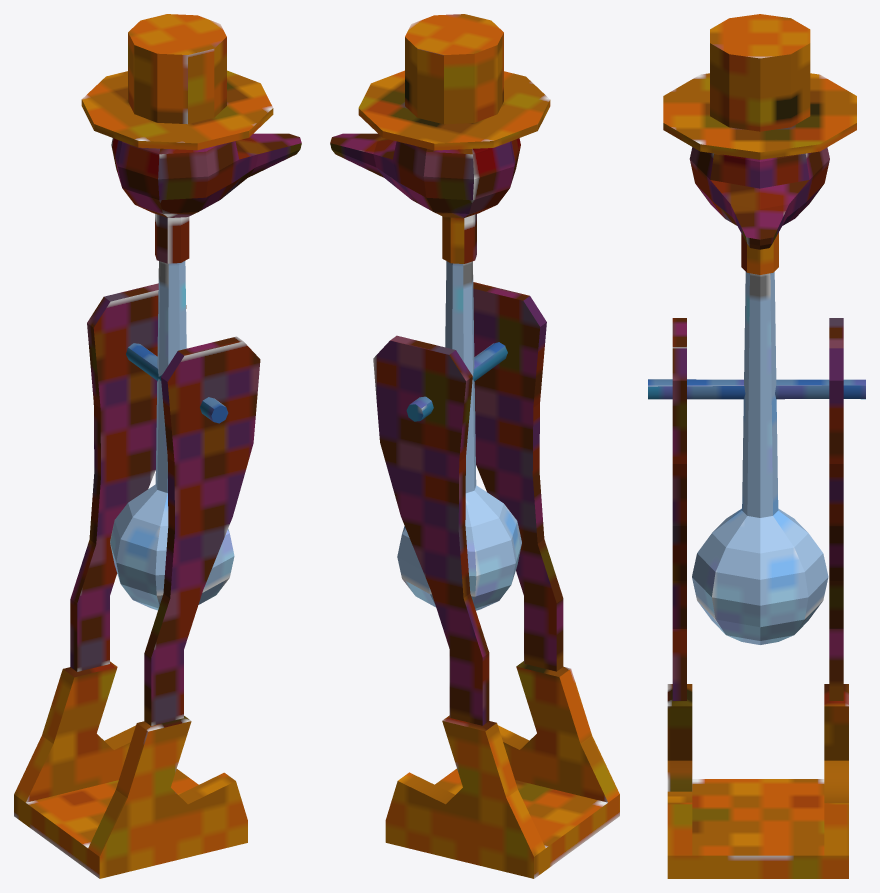
Rendered from pajarito.fbx.
3 renders of one model, left to right at view 1: azimuth 30°, elevation 25°; view 2: azimuth 150°, elevation 25°; view 3: azimuth 270°, elevation 25°, orthographic. The views are drawn at different scales.
Parts seen in each view (by area): view 1: polySurface25; view 2: polySurface25; view 3: polySurface25.
Part boxes in pixels (<box>): polySurface25: <box>14,14,301,878</box>; polySurface25: <box>330,14,619,878</box>; polySurface25: <box>648,14,865,878</box>.
Bounding box in the file's own units: 0.4974 × 1.53 × 0.3631.
